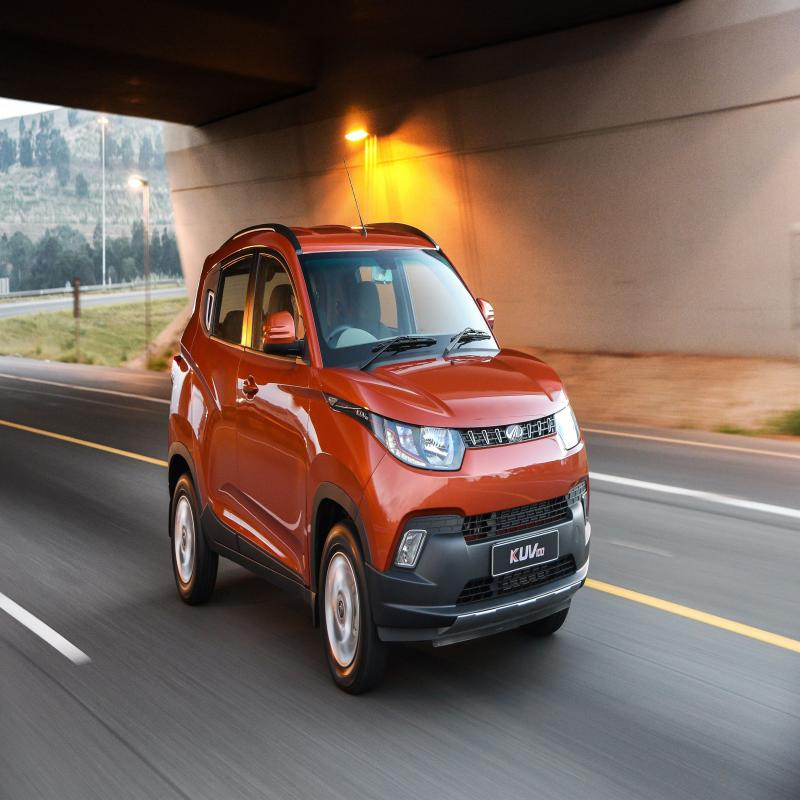car: (147, 182, 593, 689)
